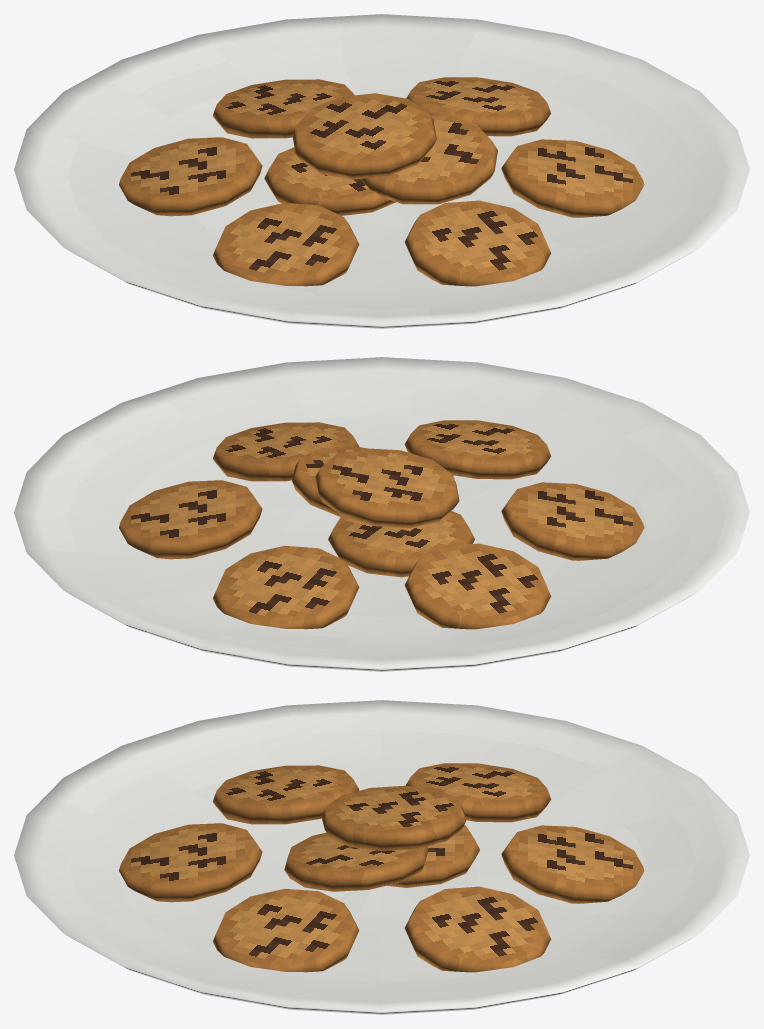
Rendered from cookies.obj.
3 renders of one model, top to bottom at view 1: azimuth 30°, elevation 25°; view 2: azimuth 150°, elevation 25°; view 3: azimuth 270°, elevation 25°, orthographic.
Parts seen in each view (by area): view 1: cookies; view 2: cookies; view 3: cookies.
Boxes of the visible parts, box(x1,y1,x2,y2) form: cookies: box(14, 14, 749, 328); cookies: box(14, 357, 749, 671); cookies: box(14, 700, 749, 1014).
Size of the model in its own units: 0.375 by 0.0505 by 0.375.
